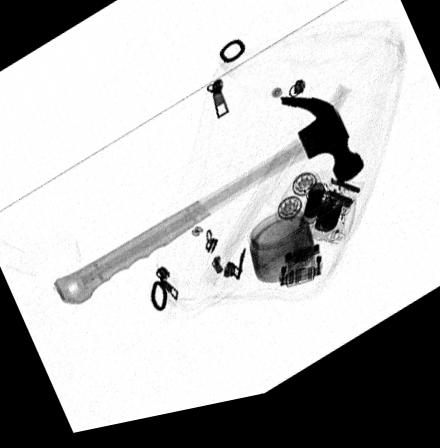Hammer: (52, 108, 365, 309)
